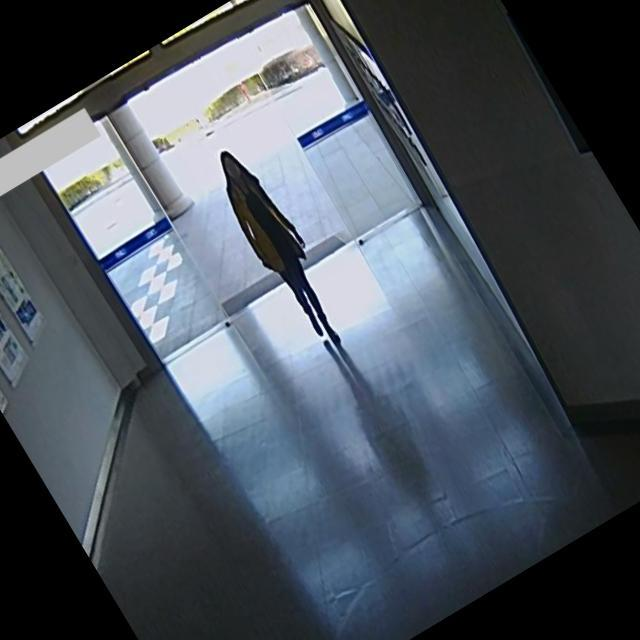person: (192, 133, 368, 368)
